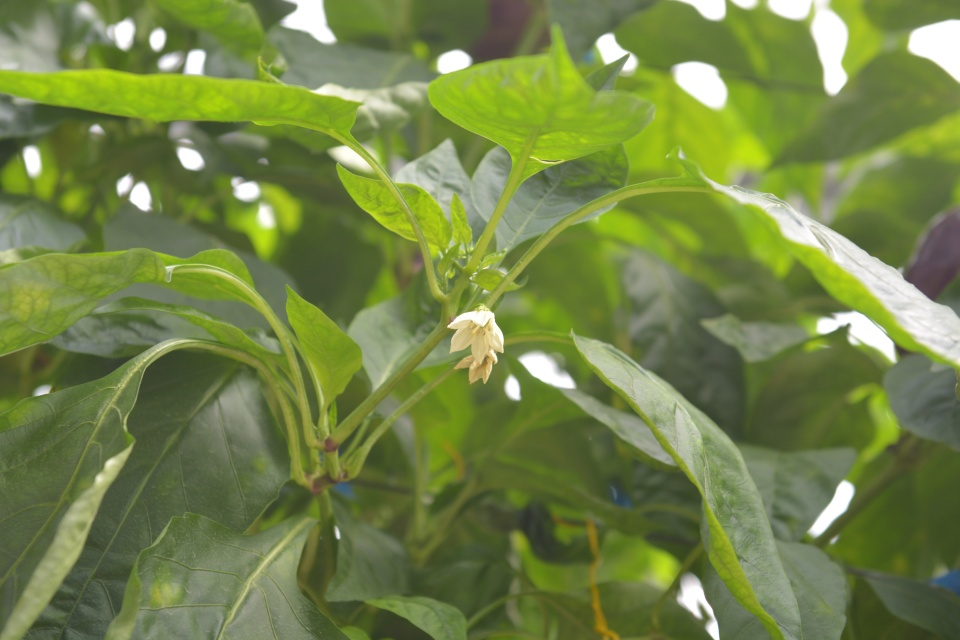flower: (444, 304, 506, 368)
